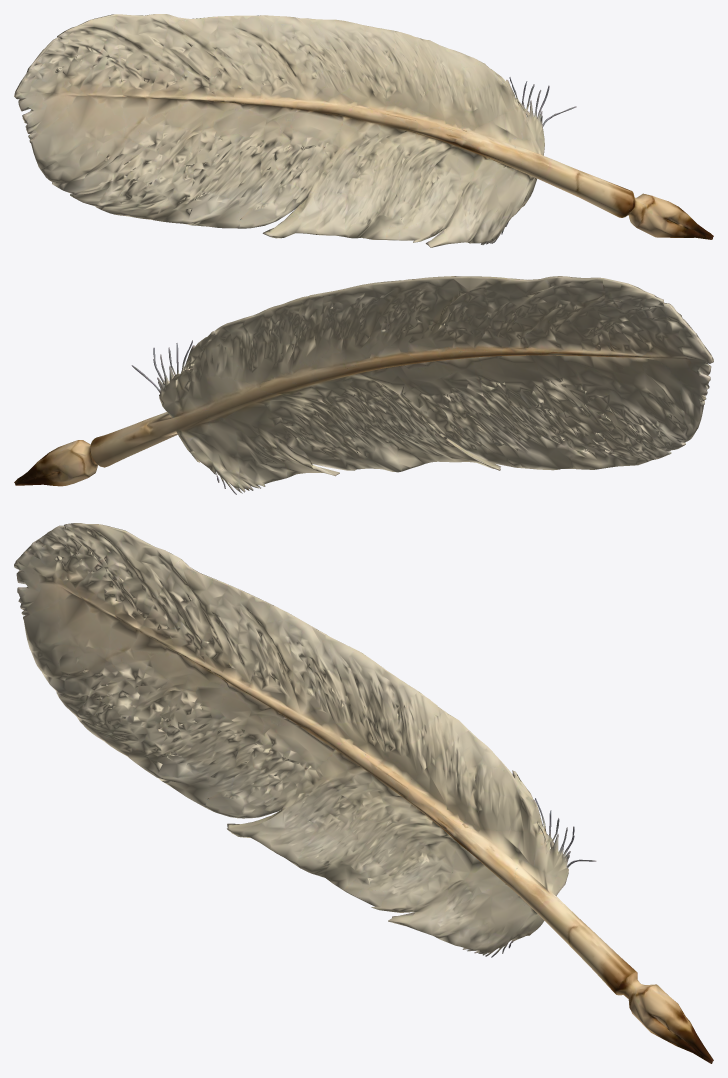
Rendered from a3D-pluma.glb.
3 renders of one model, top to bottom at view 1: azimuth 30°, elevation 25°; view 2: azimuth 150°, elevation 25°; view 3: azimuth 330°, elevation 25°, orthographic. The views are drawn at different scales.
Visible parts, largest first — view 1: geometry_0; view 2: geometry_0; view 3: geometry_0.
Boxes of the visible parts, <box> form: geometry_0: <box>14,14,713,247</box>; geometry_0: <box>14,276,713,494</box>; geometry_0: <box>14,523,713,1063</box>.
Size of the model in its own units: 1.9 by 0.9403 by 0.175.
1 material, 1 textured.
